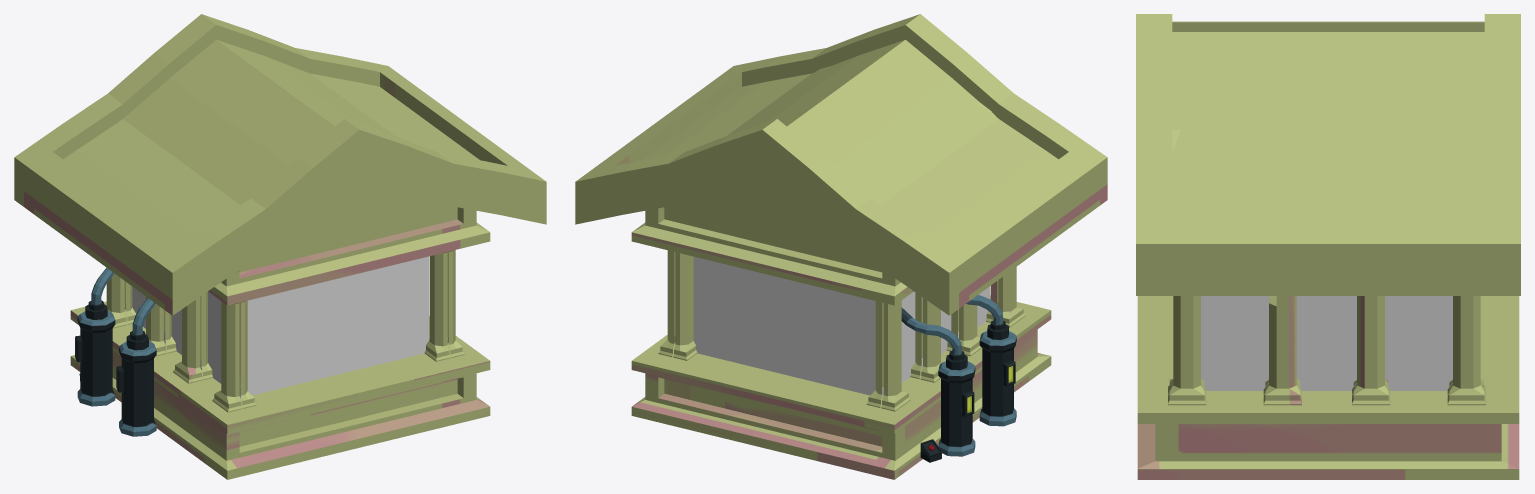
The model's file is dortoir 1.fbx.
3 views of the same model, side by side, from view 1: azimuth 30°, elevation 25°; view 2: azimuth 150°, elevation 25°; view 3: azimuth 270°, elevation 25° (orthographic). The views are drawn at different scales.
Parts seen in each view (by area): view 1: base.001, champ, battery_ferme.001, battery_ferme.002; view 2: base.001, champ, battery_ferme.001, battery_ferme.002; view 3: base.001, champ.
Boxes of the visible parts, <box> form: base.001: <box>14,14,546,479</box>; champ: <box>132,256,428,397</box>; battery_ferme.001: <box>75,267,115,406</box>; battery_ferme.002: <box>116,298,156,436</box>; base.001: <box>575,14,1107,479</box>; champ: <box>693,256,989,397</box>; battery_ferme.001: <box>901,307,975,462</box>; battery_ferme.002: <box>966,295,1016,426</box>; base.001: <box>1136,14,1520,479</box>; champ: <box>1201,296,1452,390</box>.
Size of the model in its own units: 1376 by 1120 by 1008.
